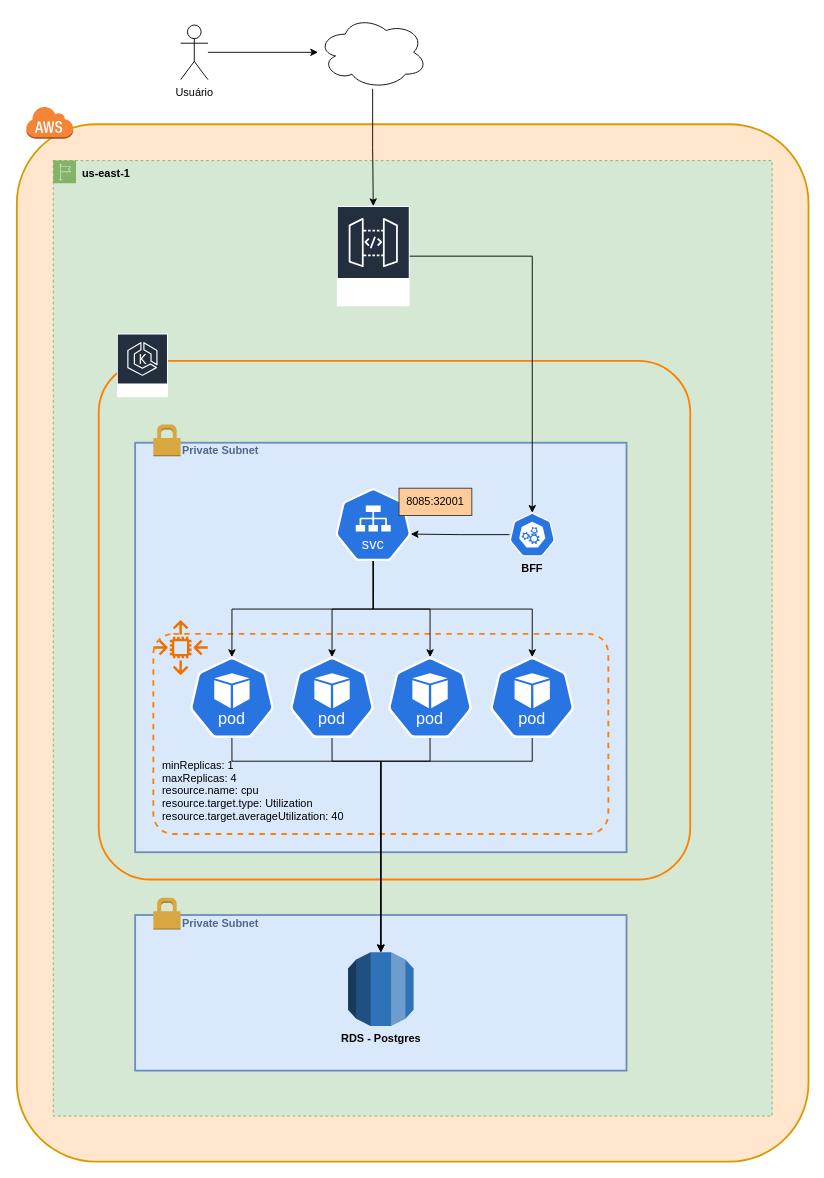
Image size: 824x1178. Some labels were removed from this diagram. The centre of each missing label's shape, as x and y in pixels:
Amazon API Gateway: [373,255]
Amazon EKS: [142,365]
Autoscaling: [180,647]
FRONT-END: [372,52]
